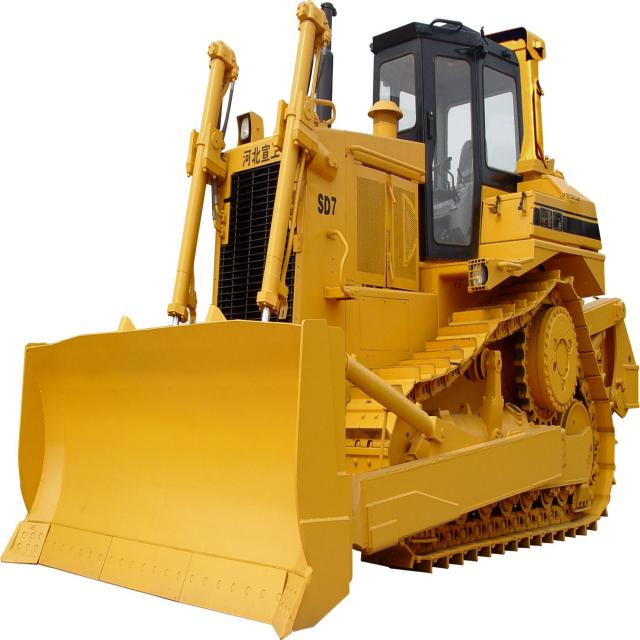Bulldozer: (15, 8, 639, 640)
